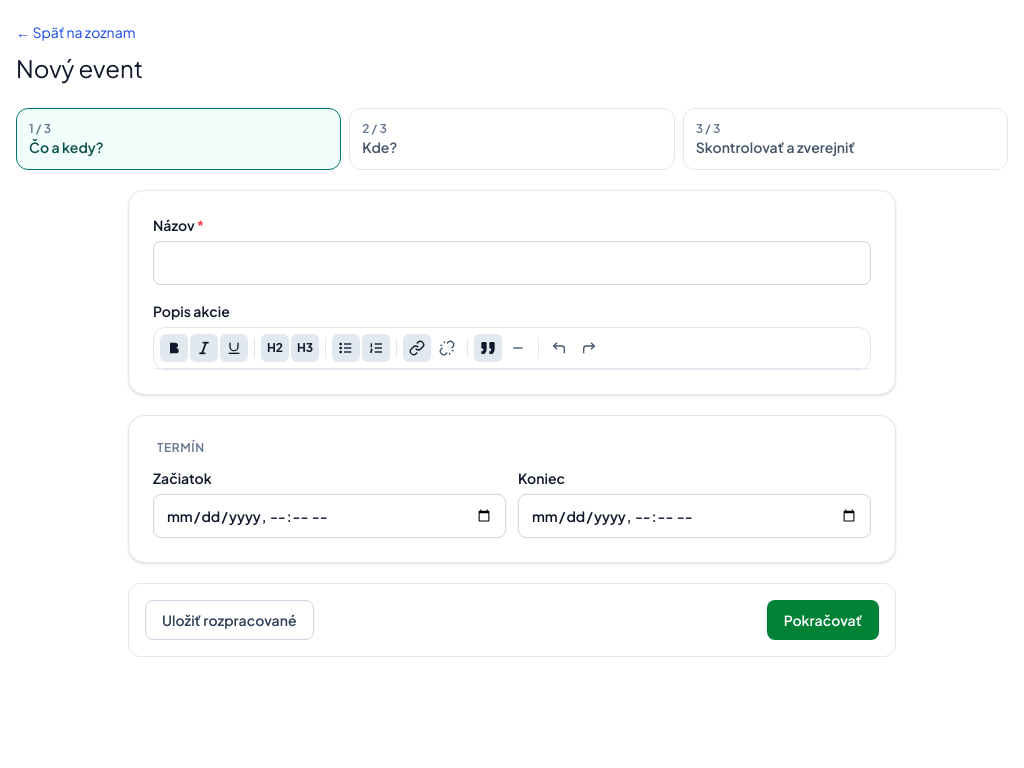
Scenario: guided event creation › does not guess the organizer when several are available
The width and height of the screenshot is (1024, 768).
Step 1. Type "Koncert" into the field labelled "Názov*" → (512, 263), box [153,241,871,285]
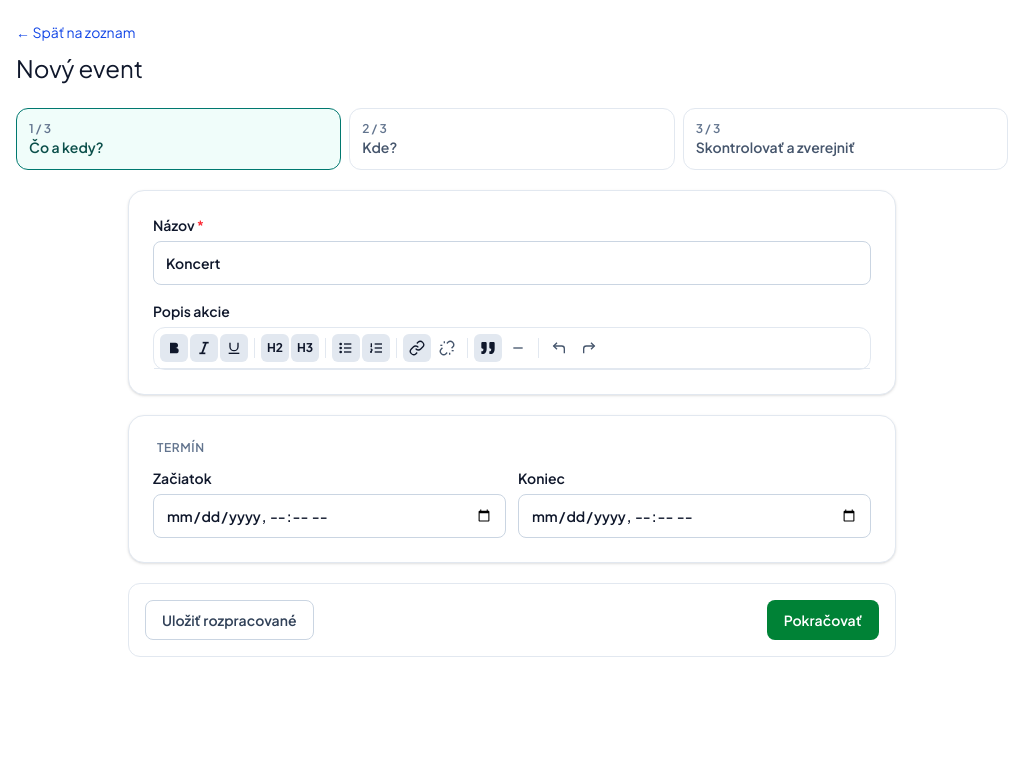
Step 2. Click the button "Uložiť rozpracované" → (229, 620), box [145,600,314,640]
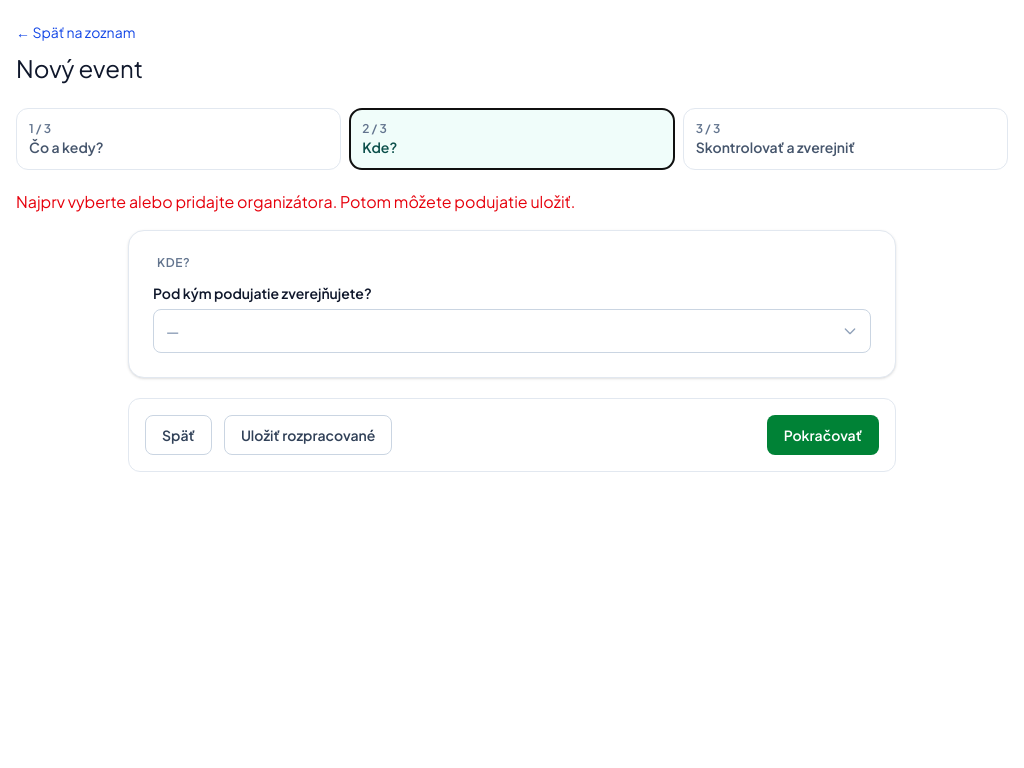
Now the message "Najprv vyberte alebo pridajte organizátora. Potom môžete podujatie uložiť." is shown, box [16,191,575,212]
Now the element showing "Kde? Pod kým podujatie zverejňujete? —" is shown, box [128,230,896,378]
